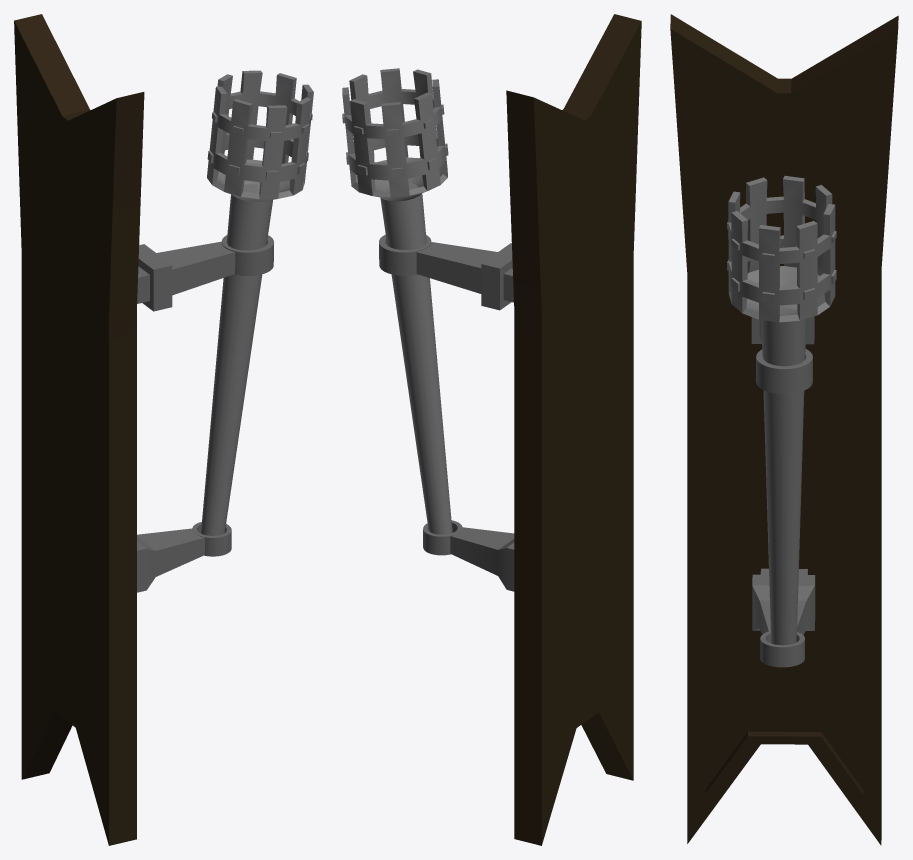
Rendered from antorcha.001.fbx.
The picture shows the model from 3 angles, left to right: view 1: azimuth 30°, elevation 25°; view 2: azimuth 150°, elevation 25°; view 3: azimuth 270°, elevation 25°; orthographic projection. The views are drawn at different scales.
Parts seen in each view (by area): view 1: antorcha.001; view 2: antorcha.001; view 3: antorcha.001.
Part boxes in pixels (<box>): antorcha.001: <box>14,14,313,845</box>; antorcha.001: <box>342,14,641,845</box>; antorcha.001: <box>670,14,898,845</box>.
Bounding box in the file's own units: 106 × 314 × 79.67.
